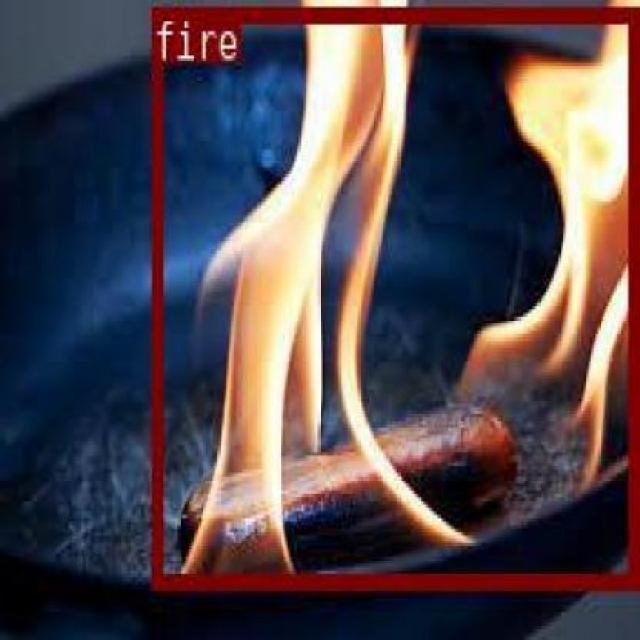Fire: (150, 5, 636, 584)
